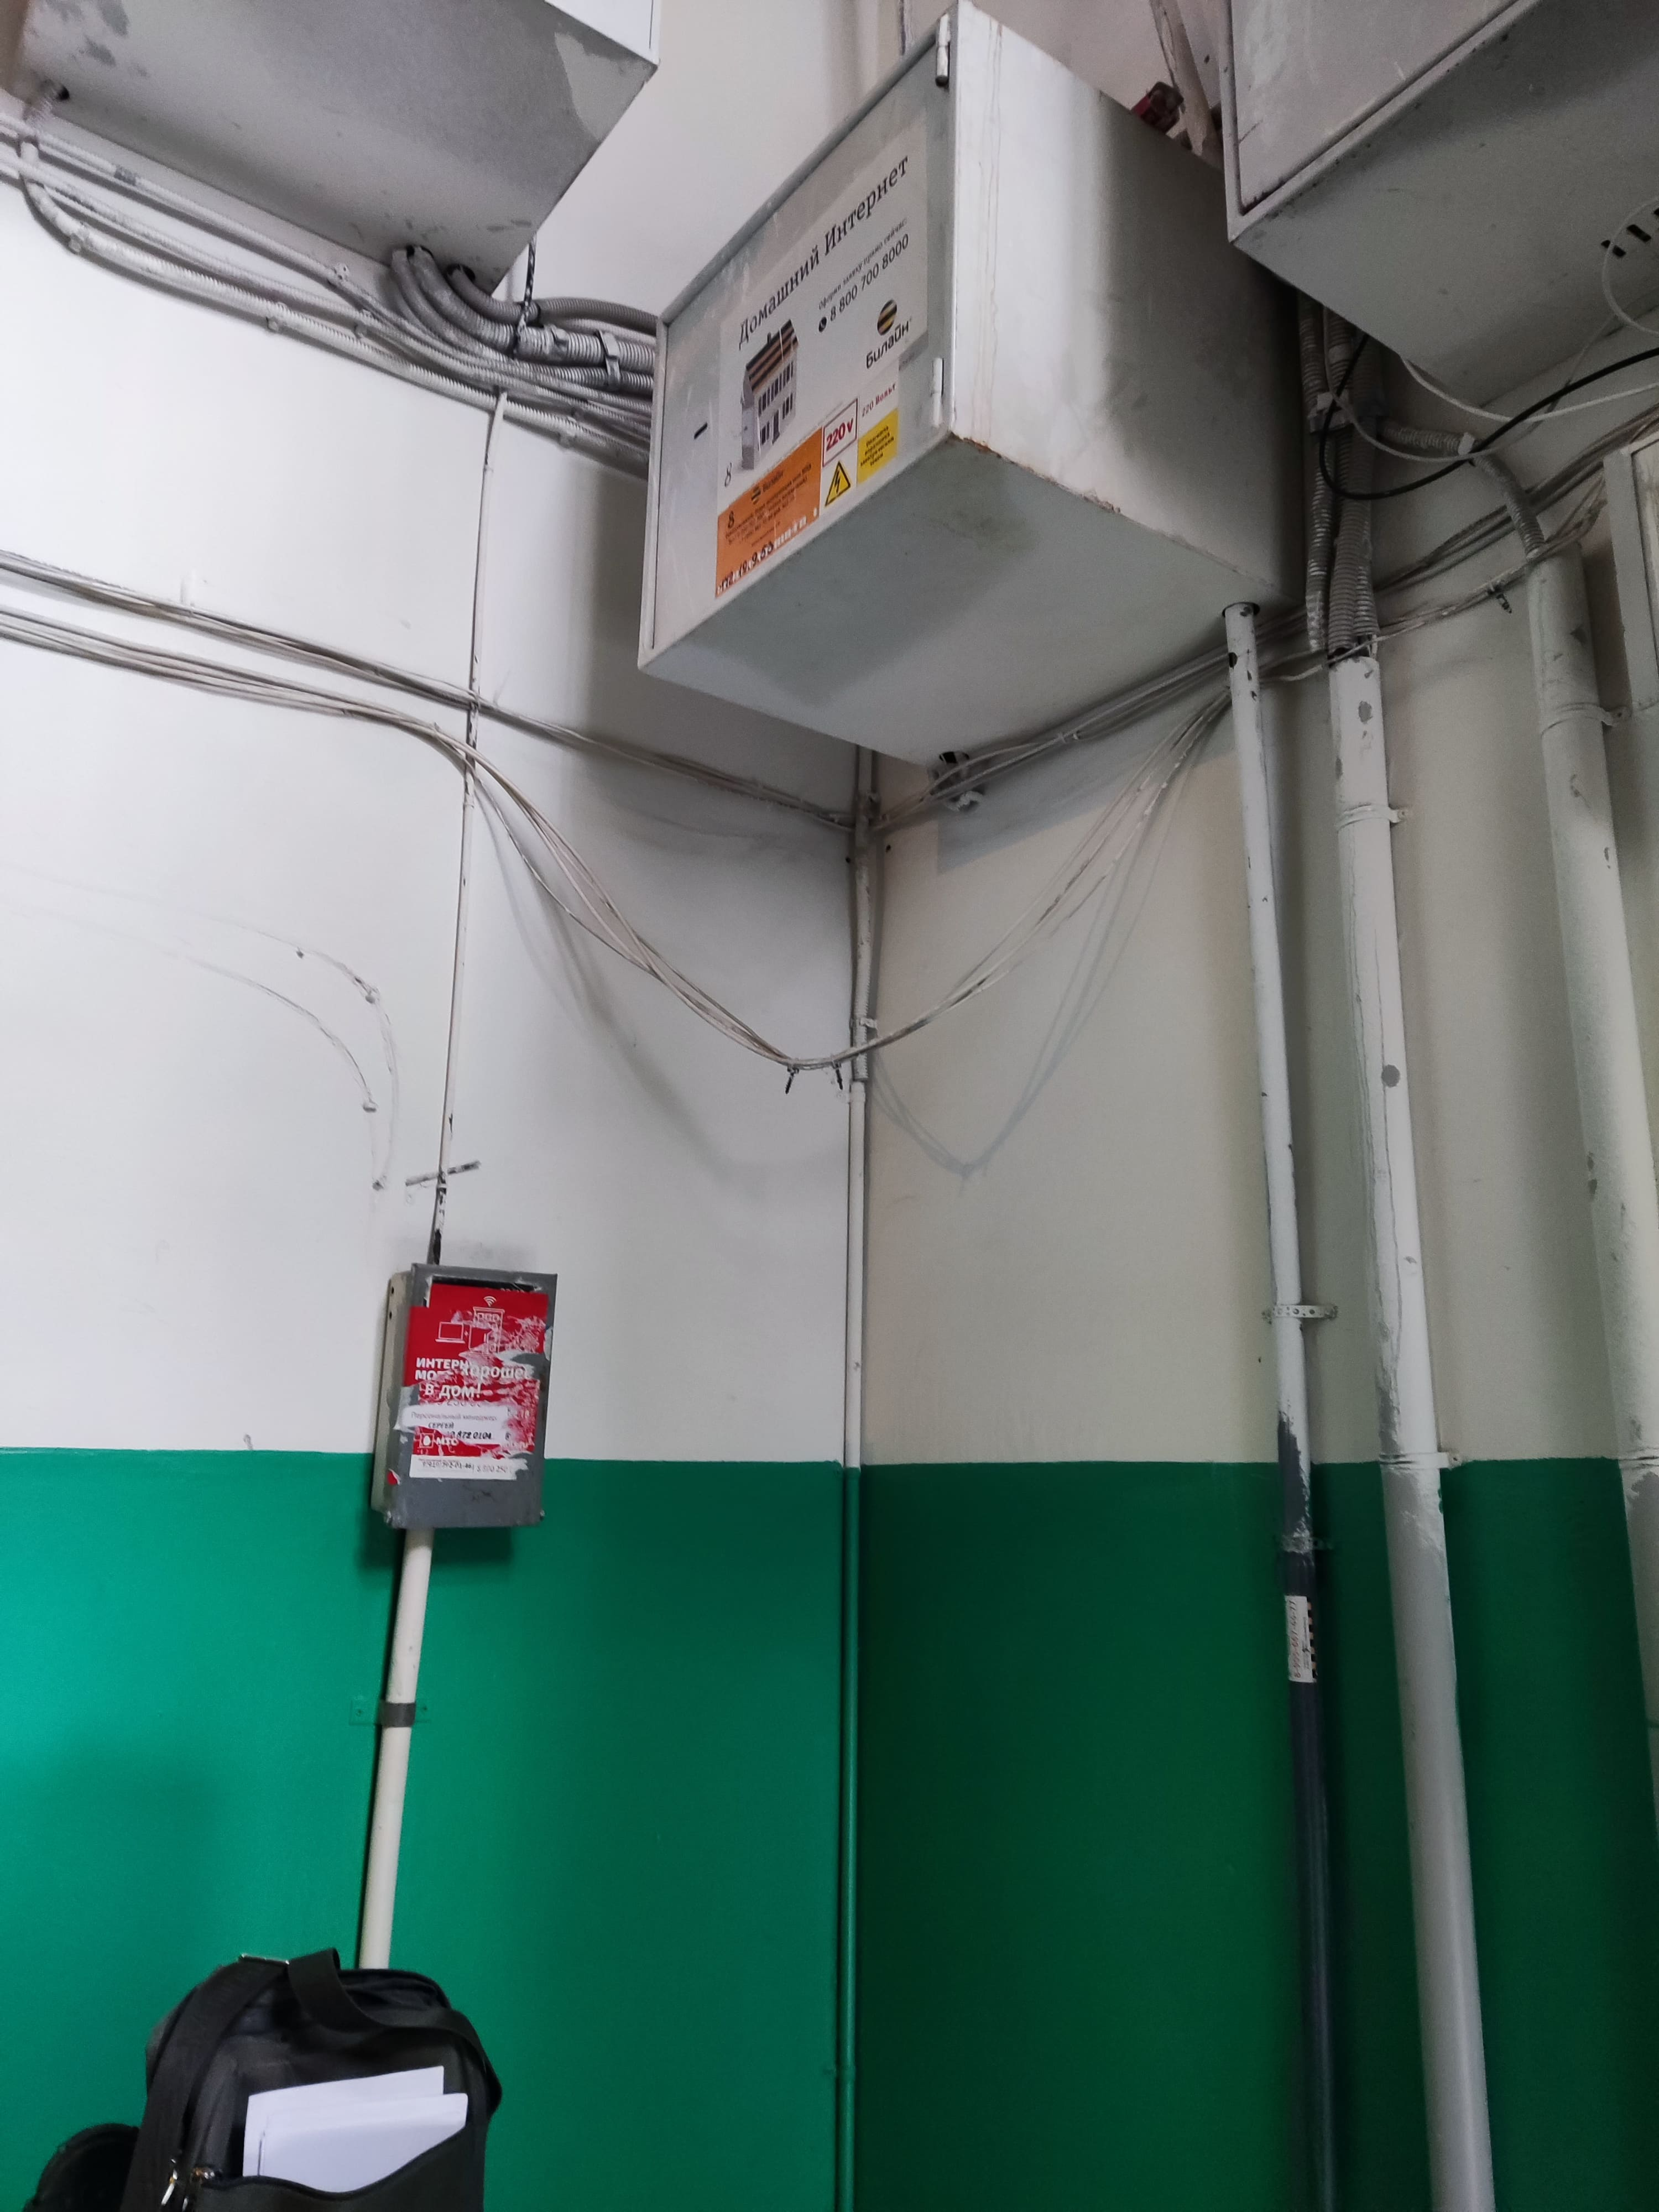shta-9m: (627, 2, 1290, 782)
